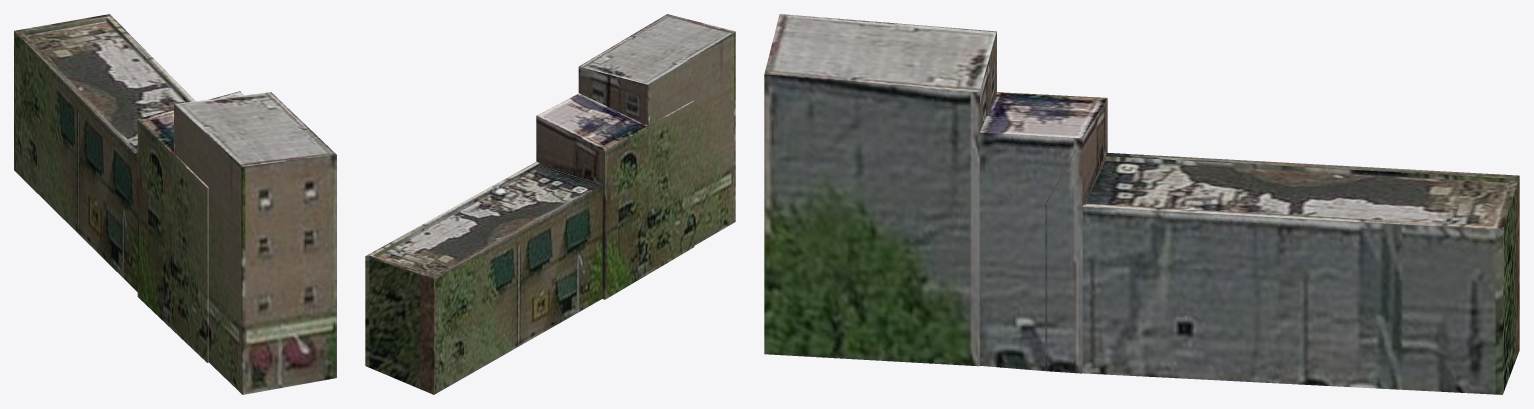
File: Buildings_subset_27.dae
The picture shows the model from 3 angles, left to right: view 1: azimuth 30°, elevation 25°; view 2: azimuth 150°, elevation 25°; view 3: azimuth 270°, elevation 25°; orthographic projection. The views are drawn at different scales.
Parts seen in each view (by area): view 1: Buildings_subset_27.dae (×8); view 2: Buildings_subset_27.dae (×8); view 3: Buildings_subset_27.dae (×8).
Boxes of the visible parts, left/top/right/bottom form: Buildings_subset_27.dae (×8): left=14, top=14, right=336, bottom=394; Buildings_subset_27.dae (×8): left=365, top=14, right=735, bottom=394; Buildings_subset_27.dae (×8): left=764, top=14, right=1519, bottom=394.
Bounding box in the file's own units: 36.04 × 121 × 52.16.
1 material, 1 textured.
